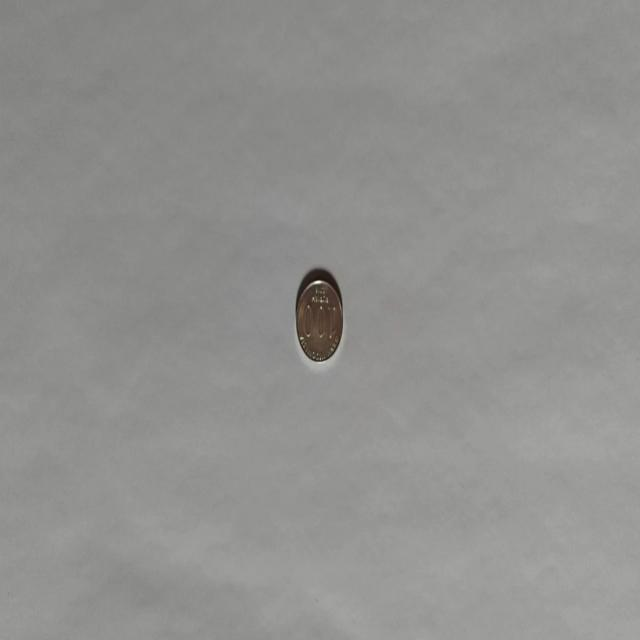seratus rupiah: (295, 272, 343, 364)
